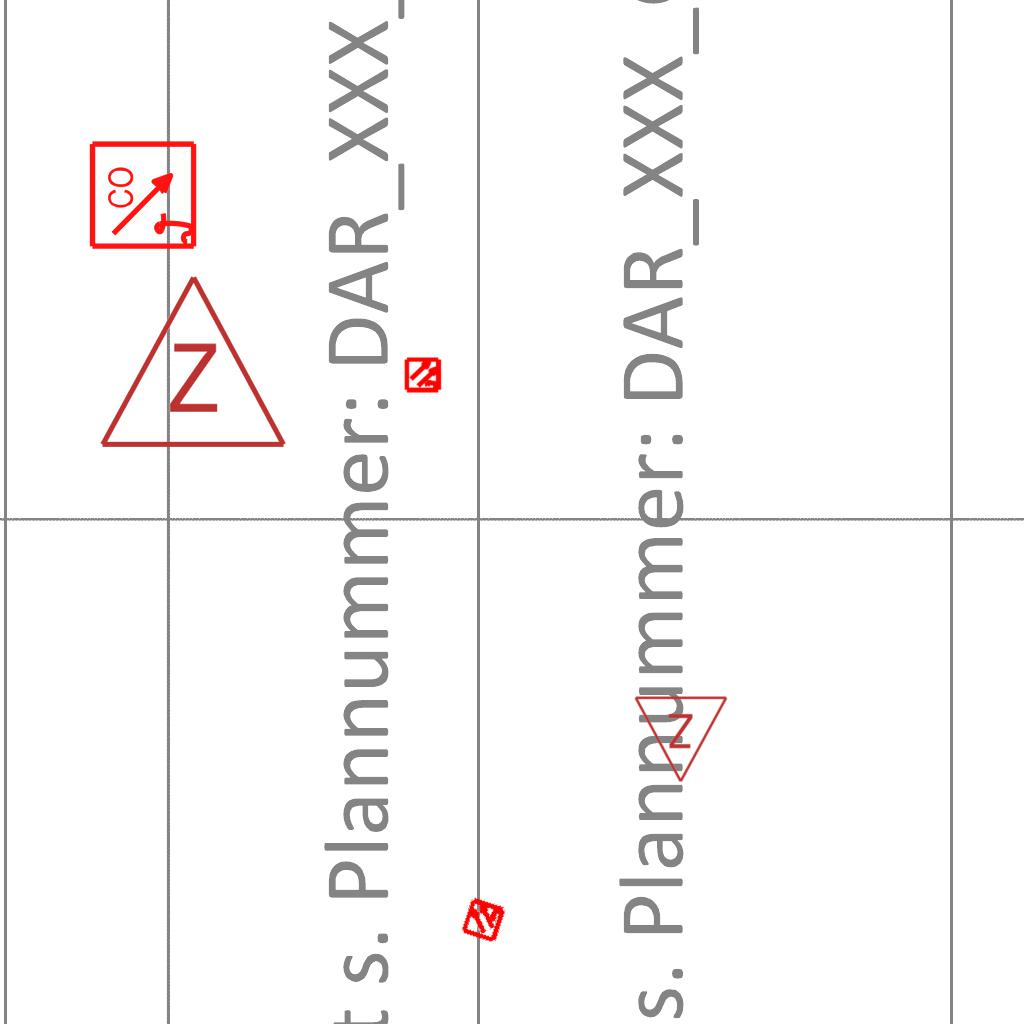OT_Multisensormelder_(Kombination_RMO_WMD): (448, 883, 520, 955), (396, 347, 452, 403)
ROA_Rauchmelder_optisch_mit_Signalgeber_(Sockelsirene): (88, 138, 201, 251)
Zimmersignalleuchte: (93, 262, 289, 462), (633, 689, 731, 789)
